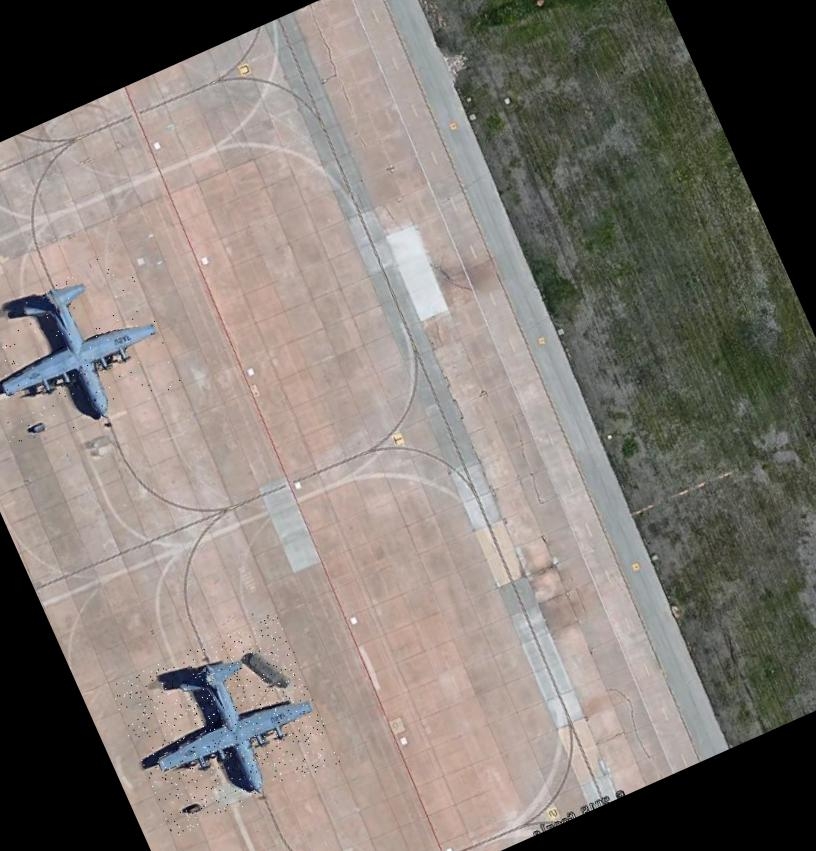A2: (106, 611, 343, 837), (0, 245, 183, 459)
